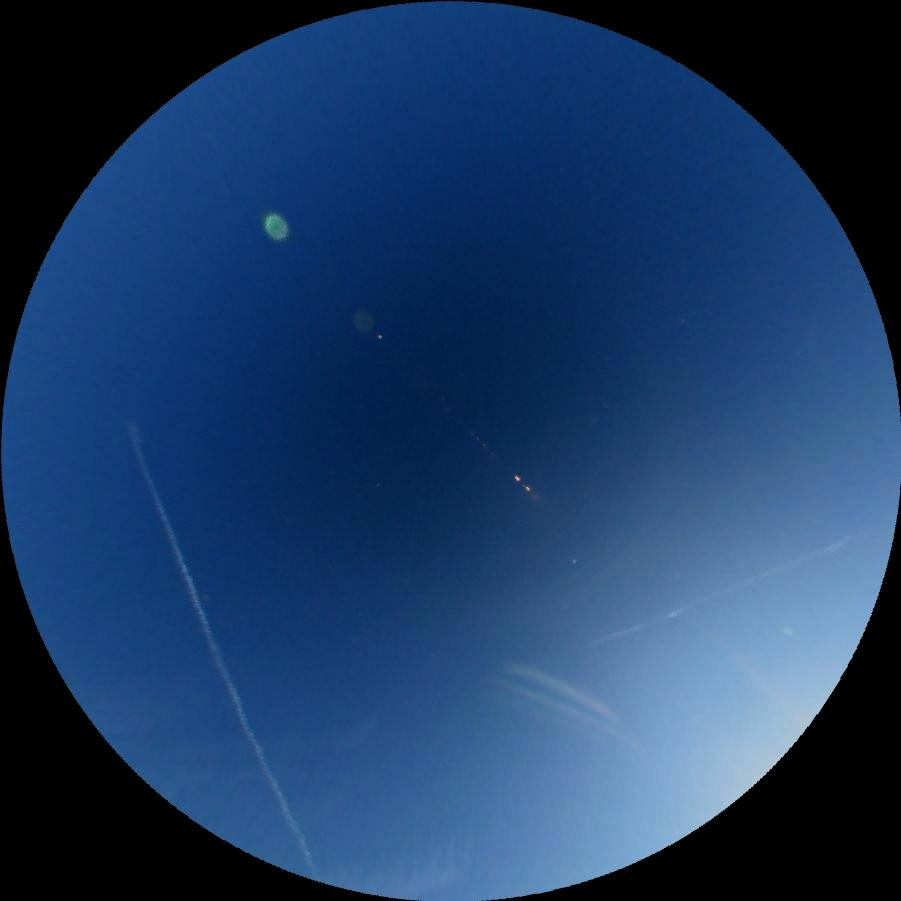contrail old: (117, 417, 320, 880), (582, 532, 858, 652)
parasite: (498, 650, 627, 727)
